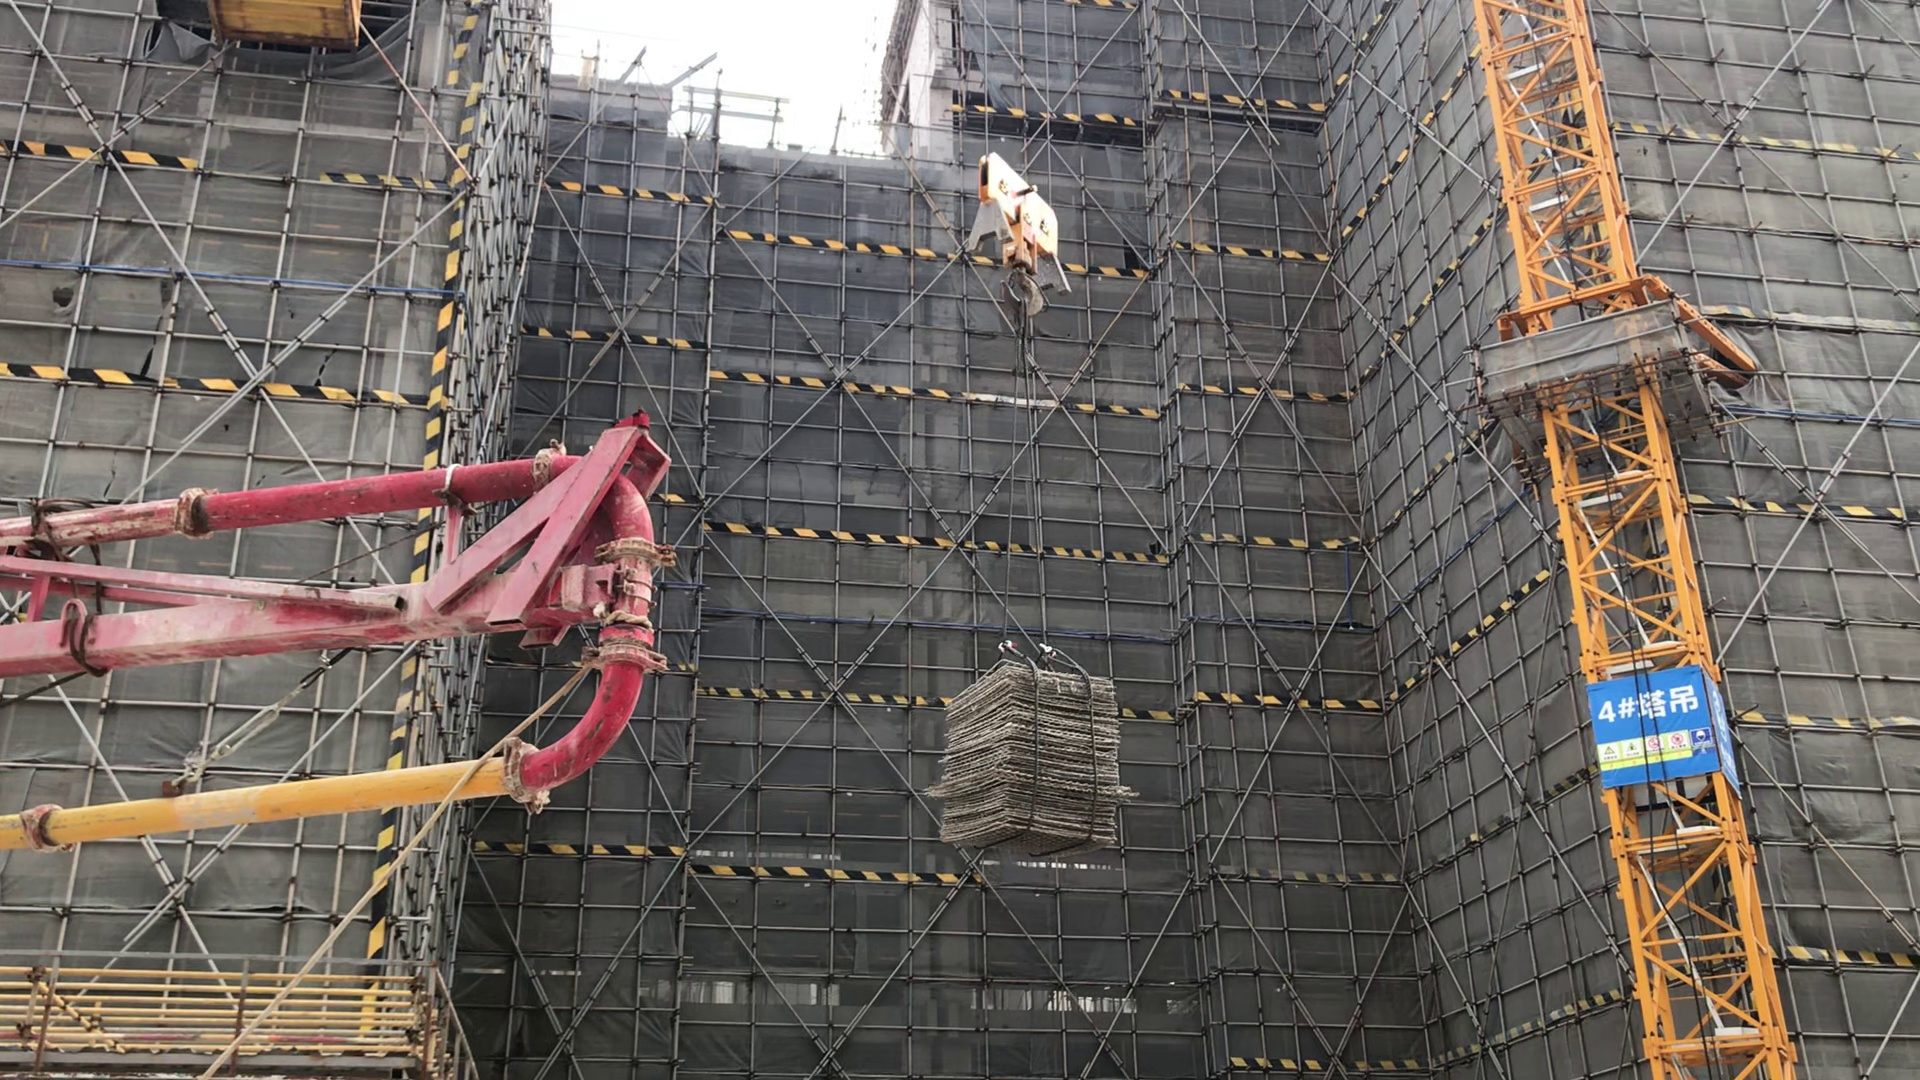hook: (967, 149, 1063, 320)
slogan: (1592, 680, 1710, 778)
